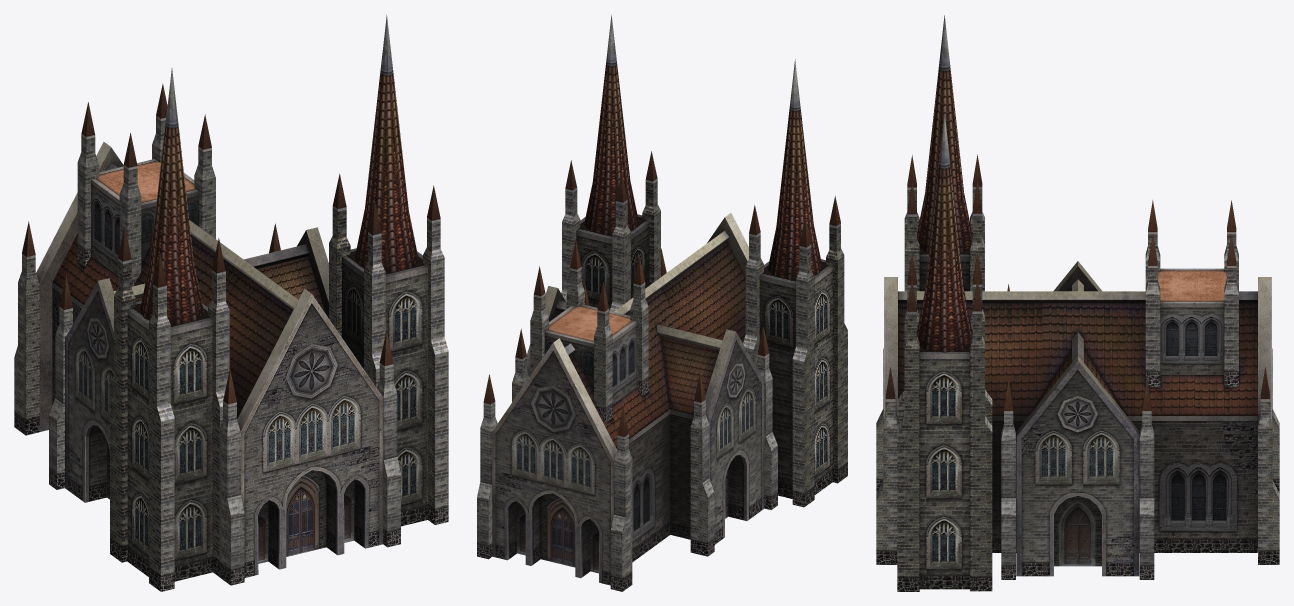
File: MEB_Temple.fbx
3 renders of one model, left to right at view 1: azimuth 30°, elevation 25°; view 2: azimuth 150°, elevation 25°; view 3: azimuth 270°, elevation 25°, orthographic. The views are drawn at different scales.
Visible parts, largest first — view 1: MEB_Temple; view 2: MEB_Temple; view 3: MEB_Temple.
Boxes of the visible parts, x1,y1,x2,y2 form: MEB_Temple: [14, 15, 448, 591]; MEB_Temple: [477, 15, 847, 591]; MEB_Temple: [876, 15, 1279, 591].
Size of the model in its own units: 1892 by 3131 by 2468.
